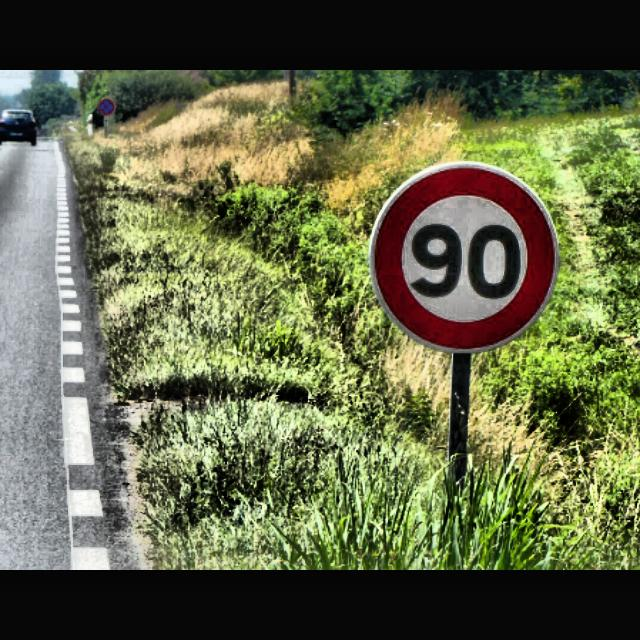speed_90: (372, 161, 560, 353)
